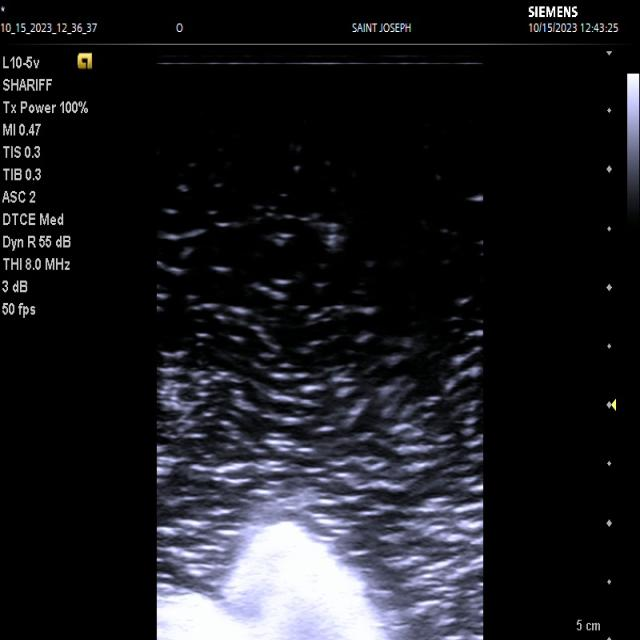tissue: (157, 522, 390, 640)
